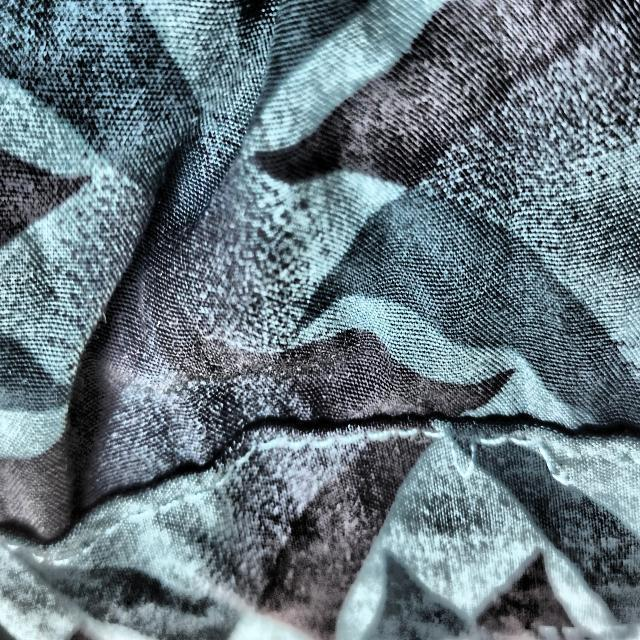gray stitch: (423, 407, 593, 507)
